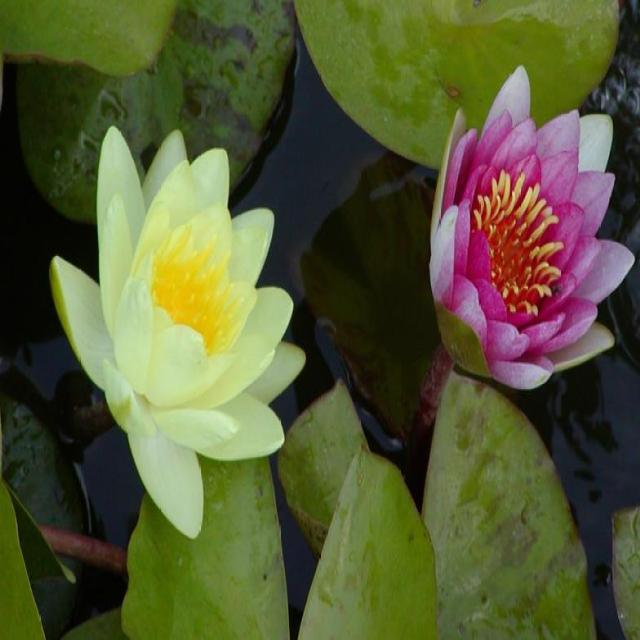rose: (23, 32, 640, 588)
